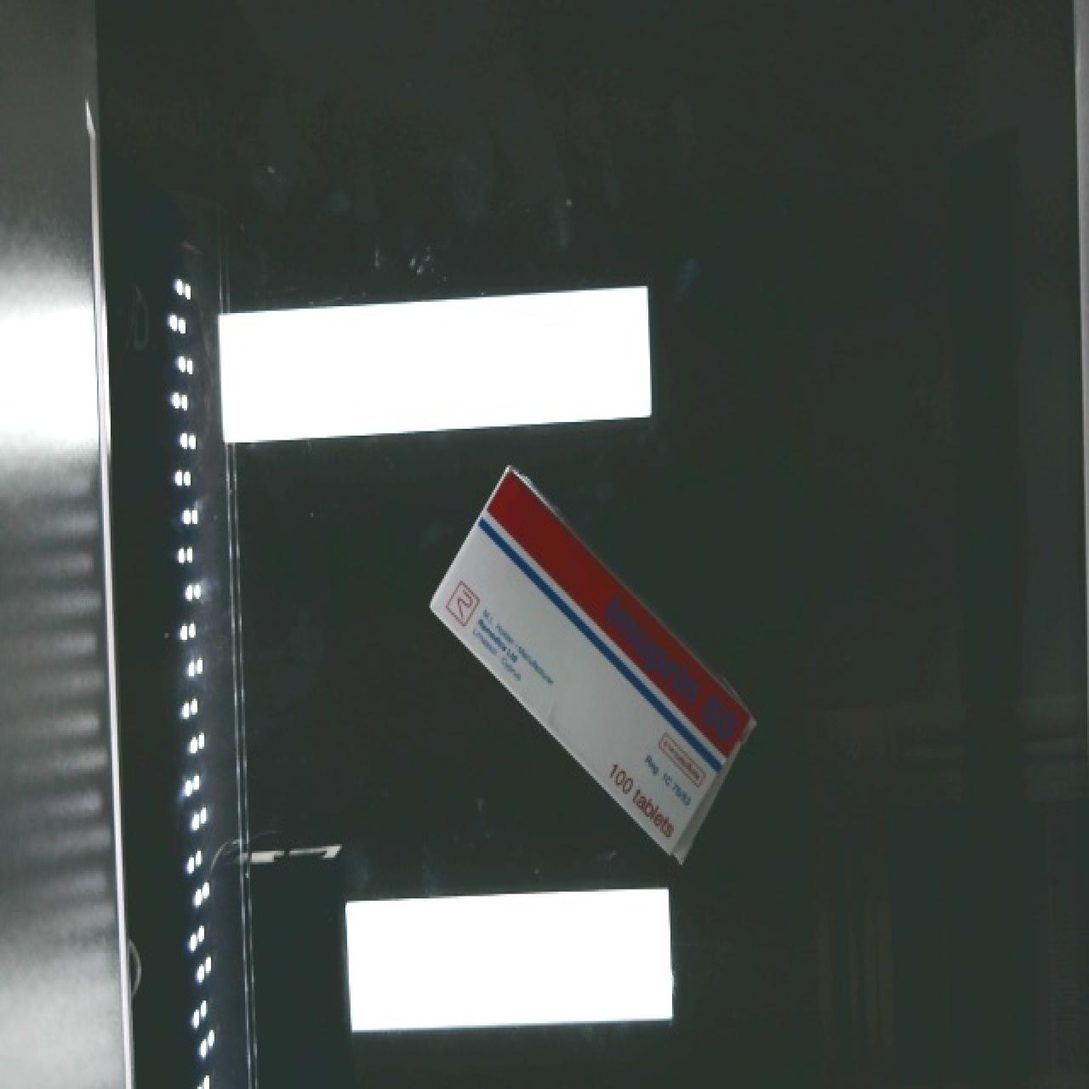medicine_label_obb: (564, 569, 770, 775)
